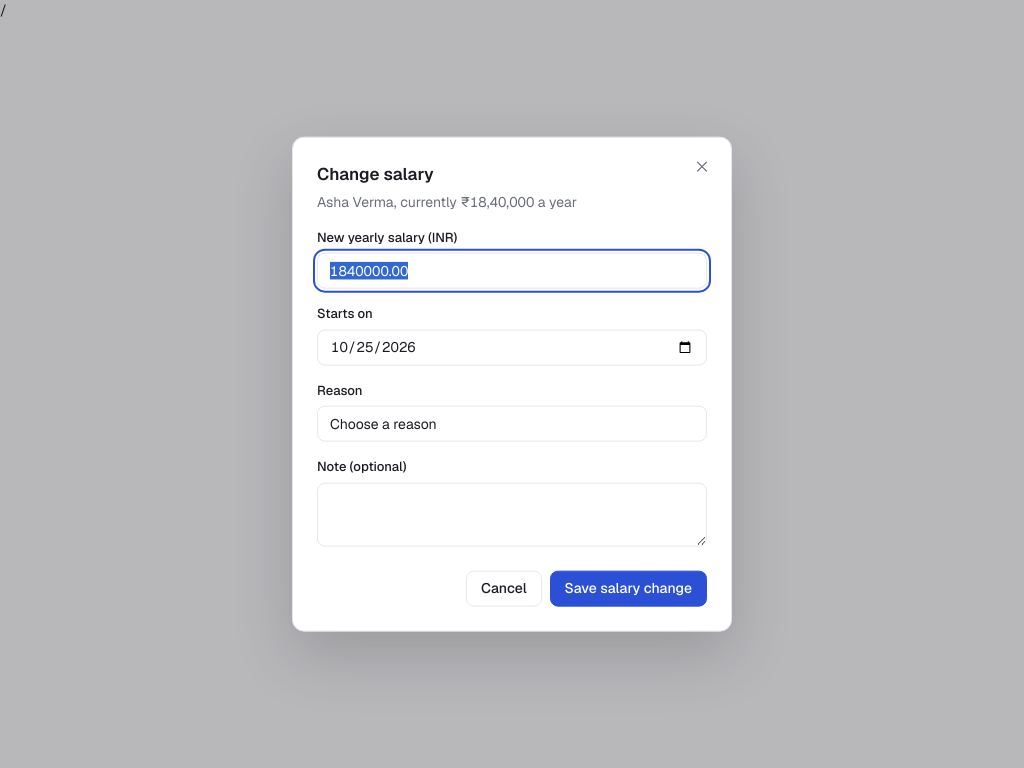
Test case: Change salary › shows server field errors next to the field
Select "Merit" in the dropdown labelled "Reason". click: (512, 424)
box: [317,406,707,442]
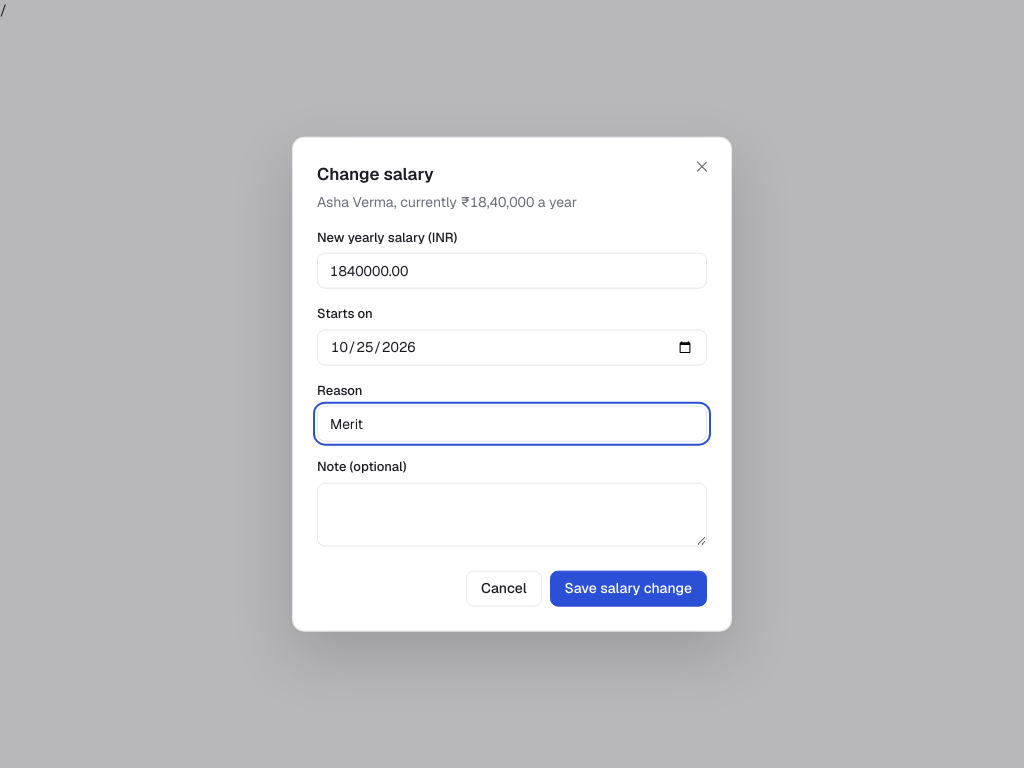
Click the button "Save salary change". click: (628, 588)
box: [550,570,707,606]
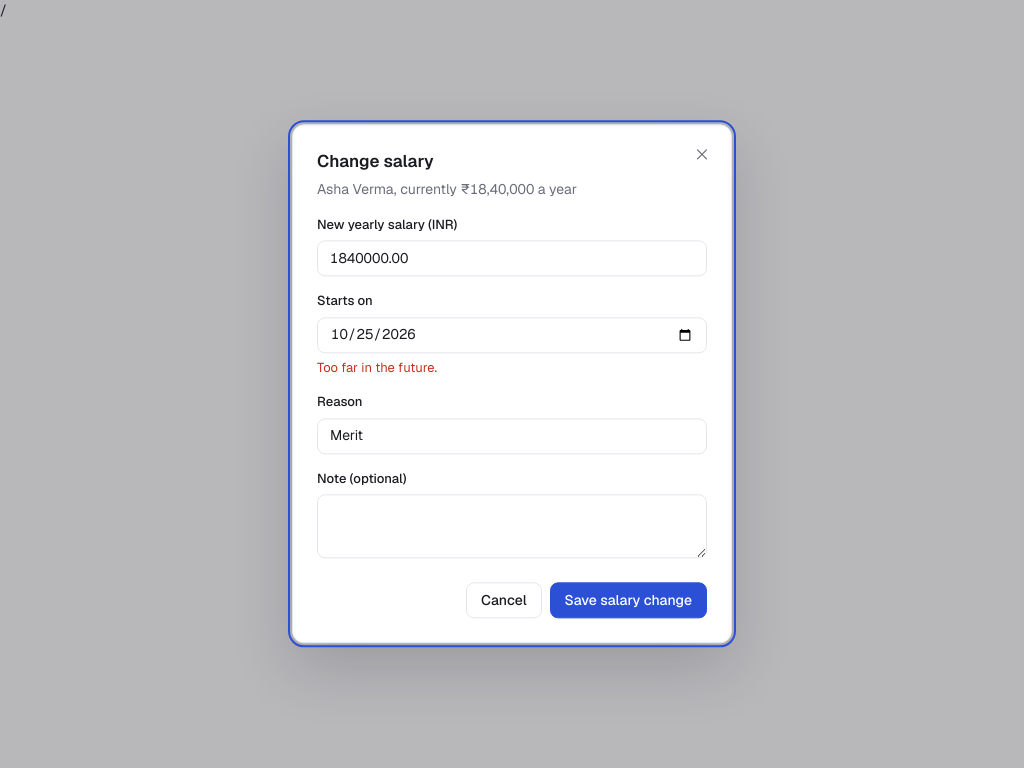
Now the text "Too far in the future." is shown, box [317,359,437,376]
